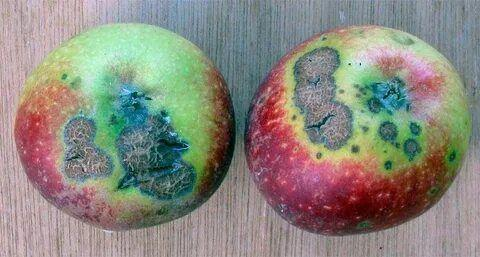Apple: (246, 24, 472, 236), (15, 22, 238, 234)
